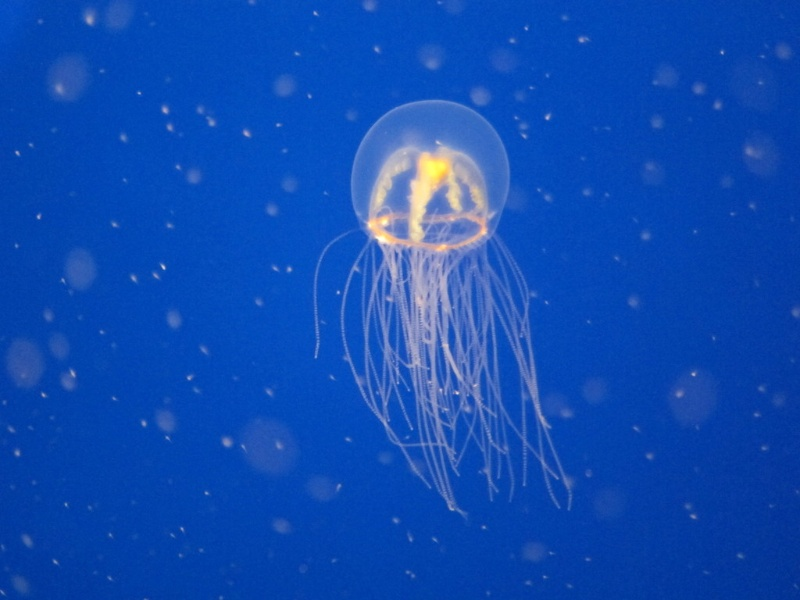Jellyfish: (311, 98, 572, 520)
